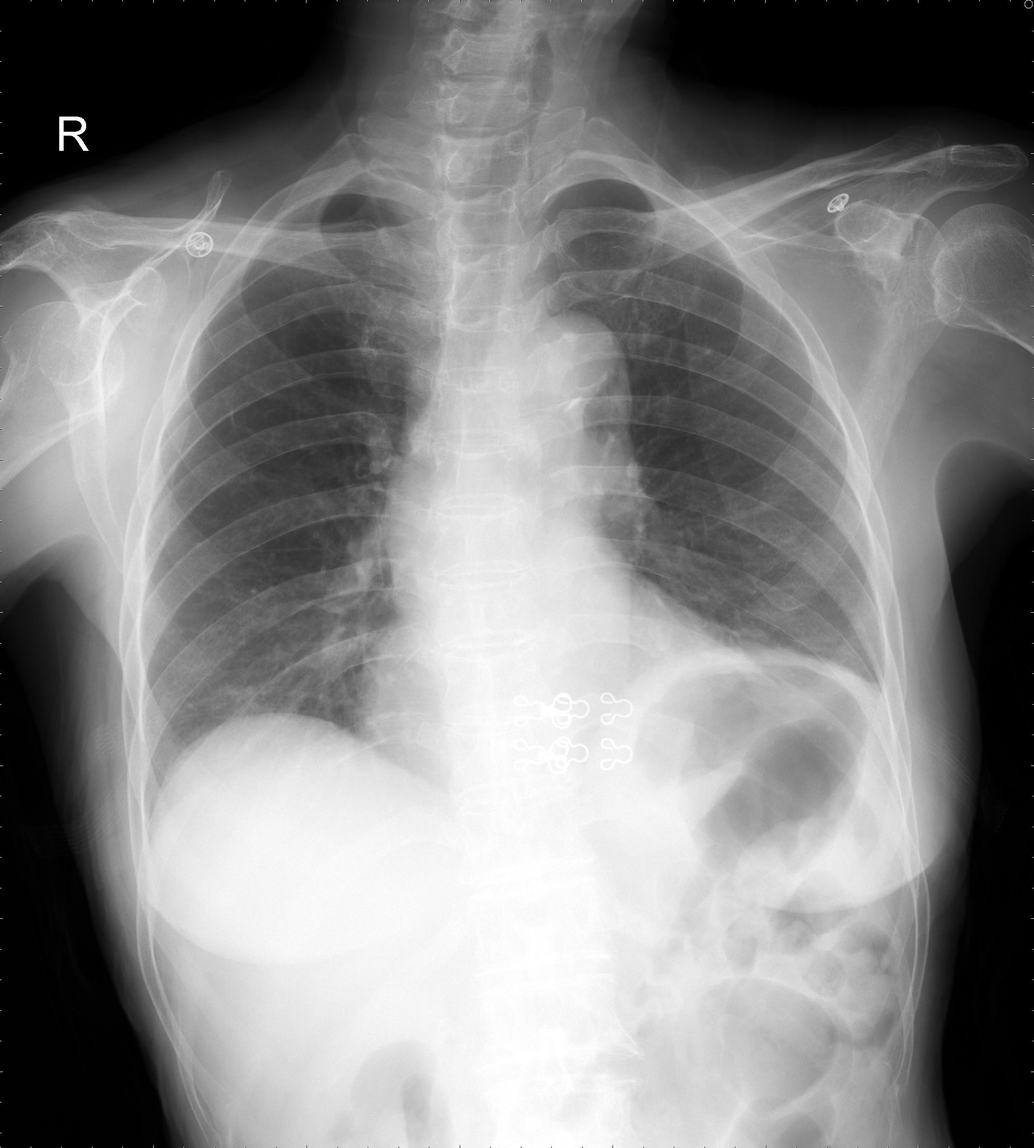Aortic enlargement: (481, 310, 632, 426)
Cardiomegaly: (341, 615, 787, 781)
Pleural thickening: (865, 639, 911, 753)
Pulmonary fibrosis: (224, 398, 238, 430)
